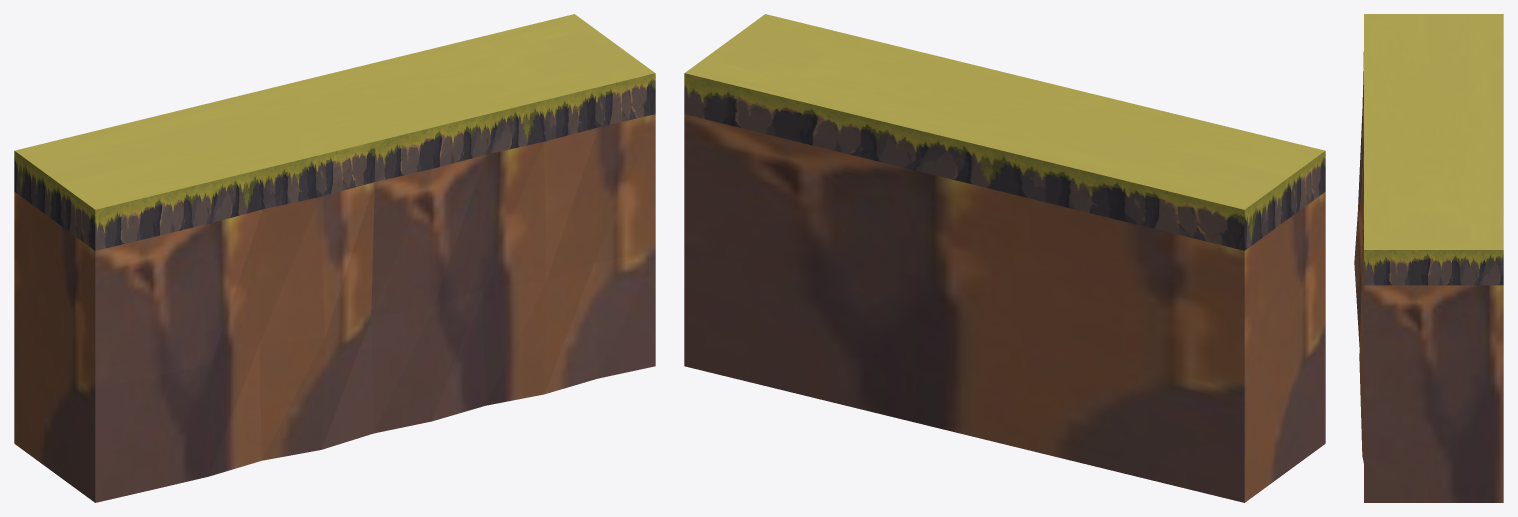
Rendered from SM_RC_Terrain_Cliff_16x8.gltf.
3 views of the same model, side by side, from view 1: azimuth 30°, elevation 25°; view 2: azimuth 150°, elevation 25°; view 3: azimuth 270°, elevation 25° (orthographic). The views are drawn at different scales.
Parts seen in each view (by area): view 1: SM_RC_Terrain_Cliff_16x8; view 2: SM_RC_Terrain_Cliff_16x8; view 3: SM_RC_Terrain_Cliff_16x8.
Part boxes in pixels (left/top/right/bottom): SM_RC_Terrain_Cliff_16x8: left=14, top=14, right=655, bottom=502; SM_RC_Terrain_Cliff_16x8: left=684, top=14, right=1325, bottom=502; SM_RC_Terrain_Cliff_16x8: left=1354, top=14, right=1503, bottom=502.
Bounding box in the file's own units: 16 × 8 × 4.28.
1 material, 1 textured.
